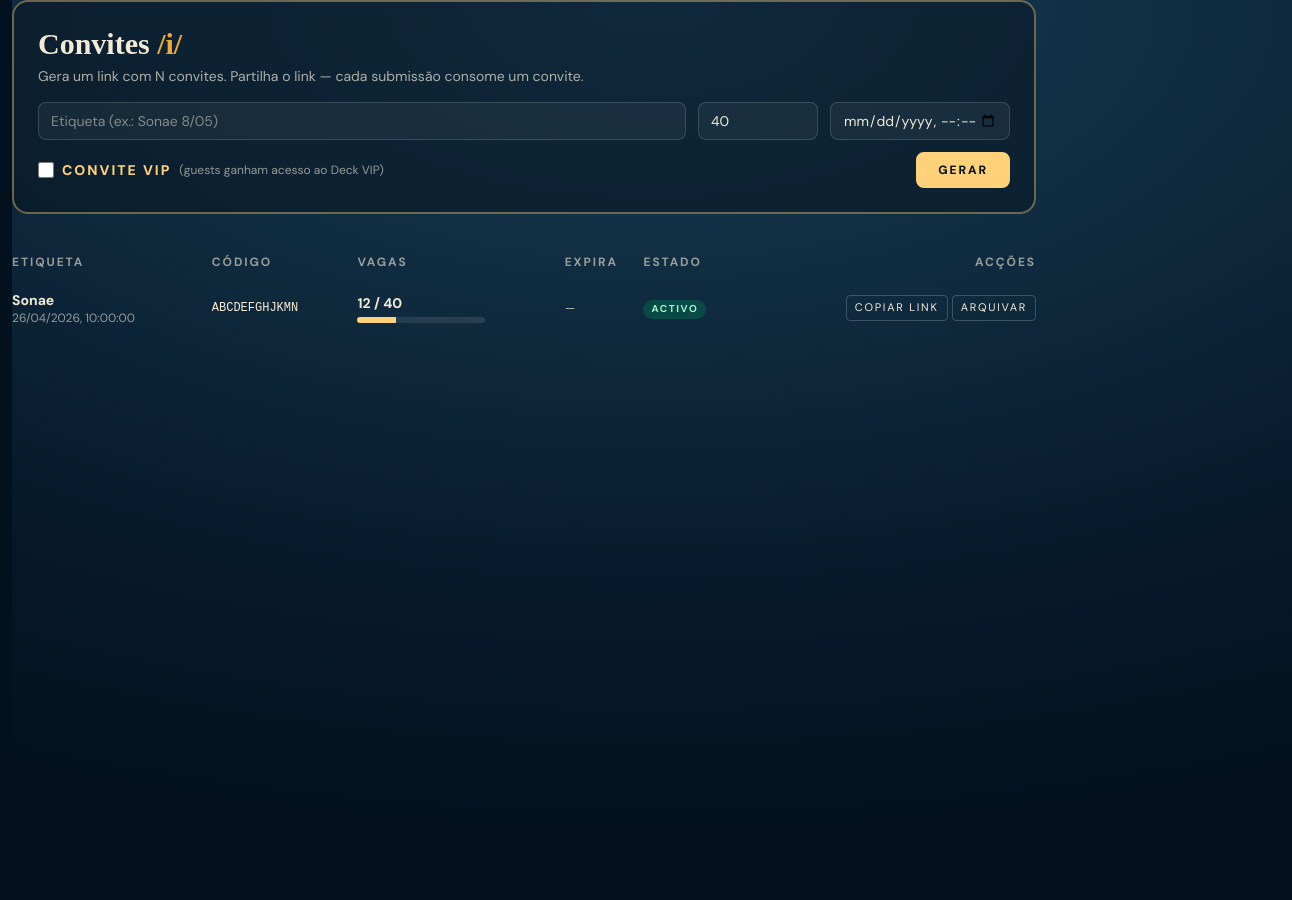
it: InvitesPanel › archive flow: erro → mensagem
Click the button "Arquivar". click: [994, 308]
box: [952,295,1036,321]
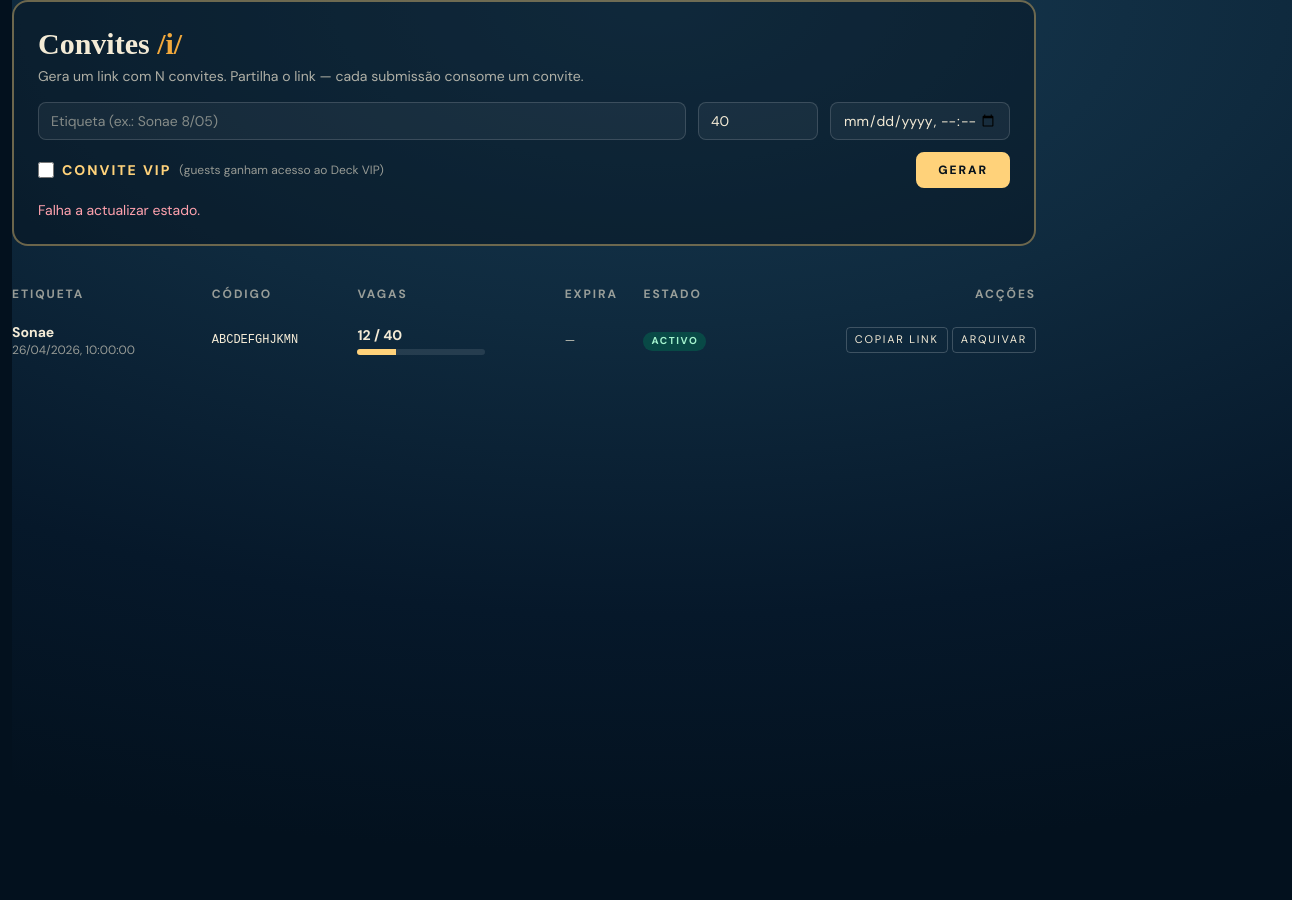
Result: the message shows "actualizar" at [38,201,200,219]
